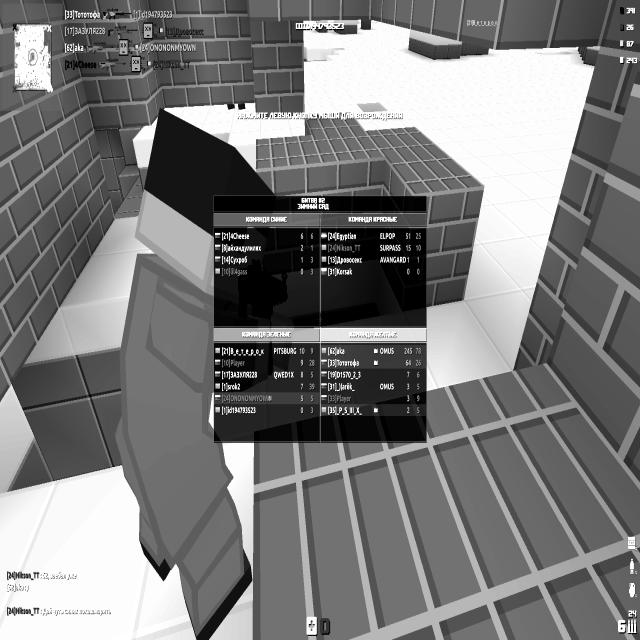Head: (134, 107, 276, 296)
Player: (114, 105, 276, 638)
